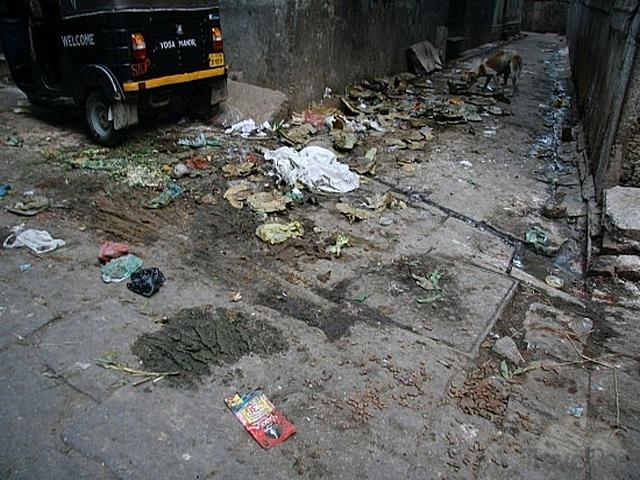garbage: (196, 130, 395, 224), (361, 78, 467, 136)
